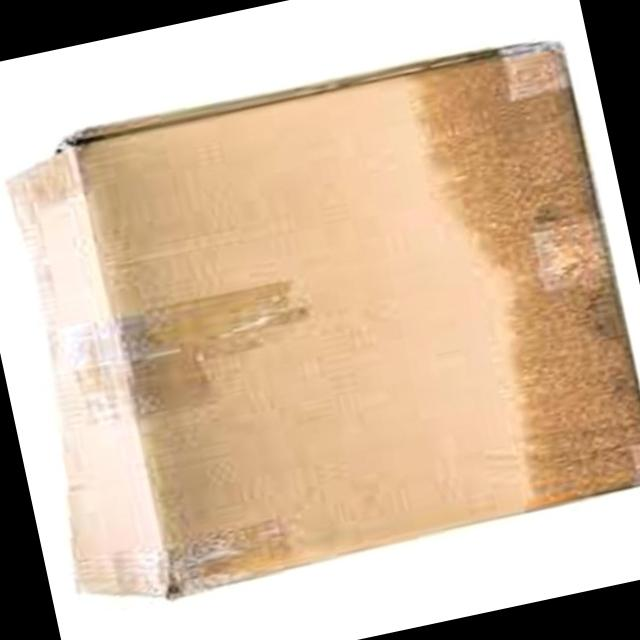opened: (407, 38, 640, 510), (42, 282, 311, 415), (62, 518, 291, 598)
